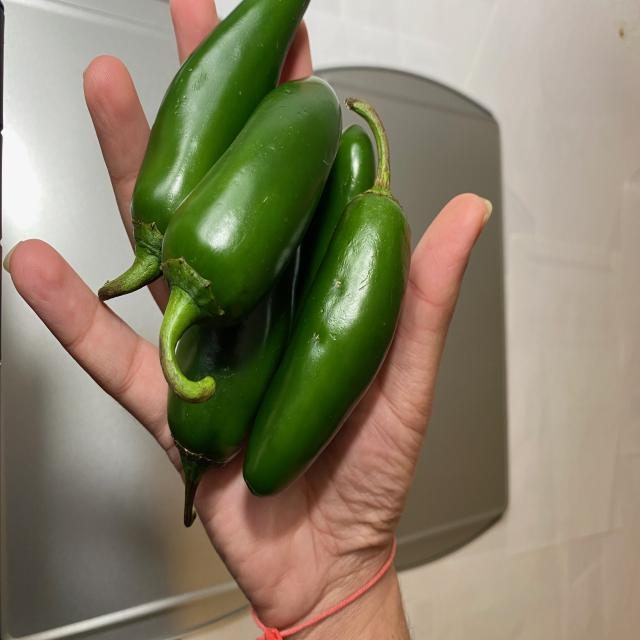chilli: (103, 0, 420, 530)
